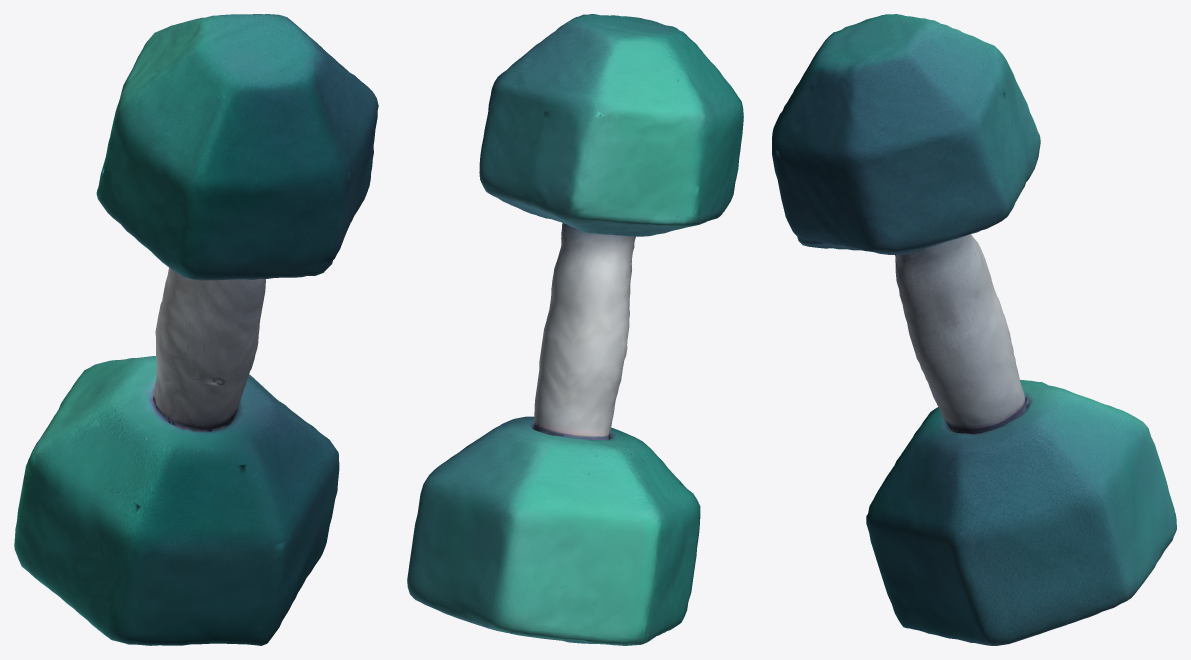
Rendered from Stack 4A - Dumbbell.glb.
3 renders of one model, left to right at view 1: azimuth 30°, elevation 25°; view 2: azimuth 150°, elevation 25°; view 3: azimuth 270°, elevation 25°, orthographic. The views are drawn at different scales.
Visible parts, largest first — view 1: Dumbbell; view 2: Dumbbell; view 3: Dumbbell.
Part boxes in pixels (x1=…): Dumbbell: x1=14, y1=14, x2=378, y2=645; Dumbbell: x1=407, y1=14, x2=743, y2=645; Dumbbell: x1=772, y1=14, x2=1176, y2=645.
Bounding box in the file's own units: 0.437 × 1 × 0.623.
1 material, 1 textured.
